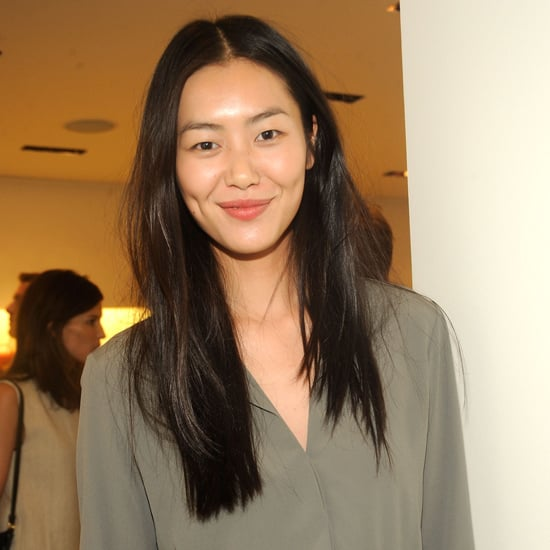smile: (168, 59, 306, 254)
